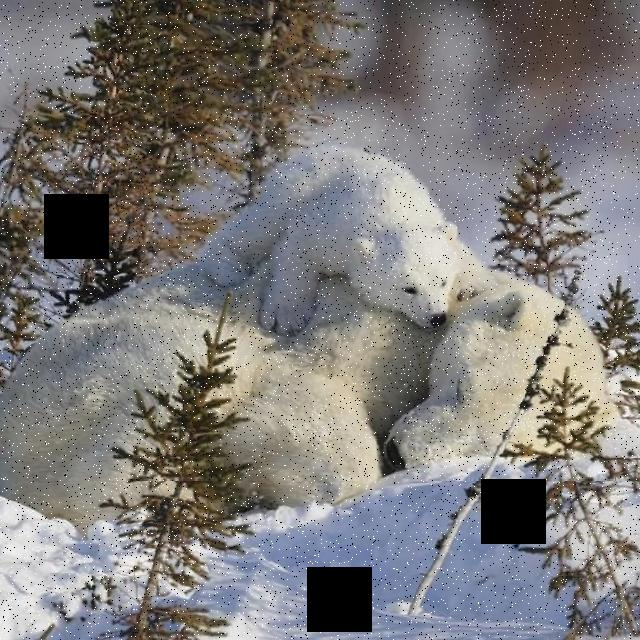Bear: (0, 241, 632, 517), (207, 138, 481, 327)
